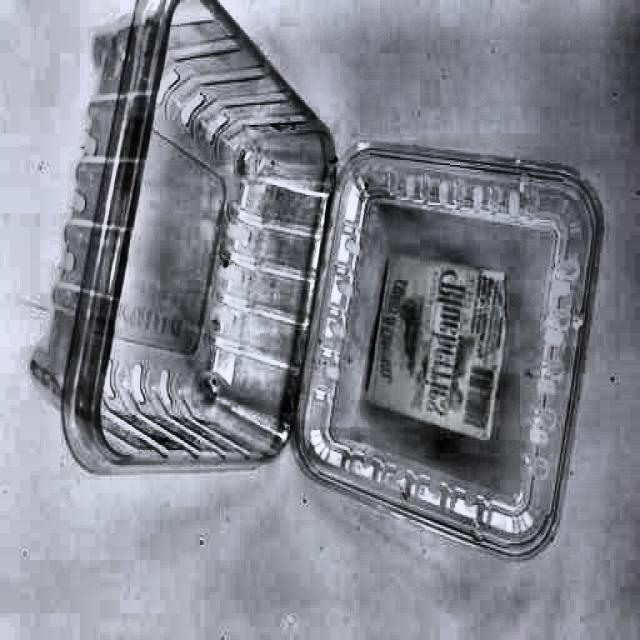plastic: (42, 15, 593, 562)
